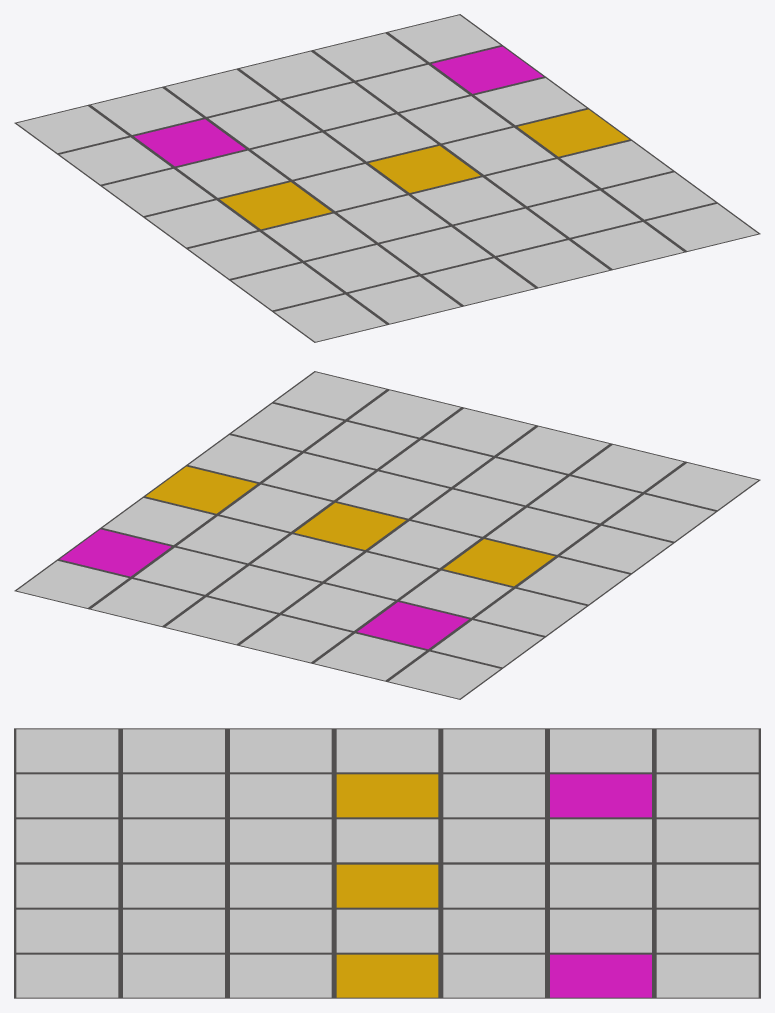
3 views of the same model, one above another, from view 1: azimuth 30°, elevation 25°; view 2: azimuth 150°, elevation 25°; view 3: azimuth 270°, elevation 25° (orthographic). The views are drawn at different scales.
Visible parts, largest first — view 1: Plane.001; view 2: Plane.001; view 3: Plane.001.
Boxes of the visible parts, <box> form: Plane.001: <box>14,14,760,342</box>; Plane.001: <box>14,371,760,699</box>; Plane.001: <box>14,728,760,998</box>.
Size of the model in its own units: 921 by 4.02e-05 by 1074.
